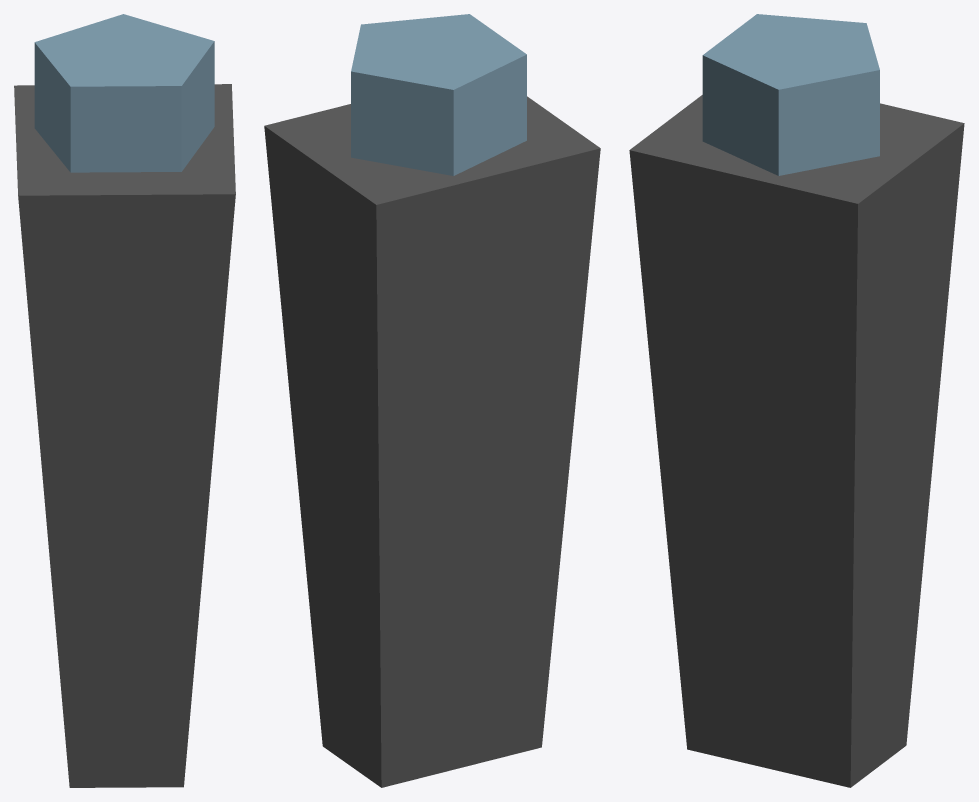
Rendered from Office2_vial_1.fbx.
The picture shows the model from 3 angles, left to right: view 1: azimuth 30°, elevation 25°; view 2: azimuth 150°, elevation 25°; view 3: azimuth 270°, elevation 25°; orthographic projection.
Visible parts, largest first — view 1: Office2_vial_1; view 2: Office2_vial_1; view 3: Office2_vial_1.
Part boxes in pixels (<box>): Office2_vial_1: <box>14,14,235,787</box>; Office2_vial_1: <box>264,14,600,787</box>; Office2_vial_1: <box>629,14,964,787</box>.
Size of the model in its own units: 10.87 by 26.26 by 11.44.
